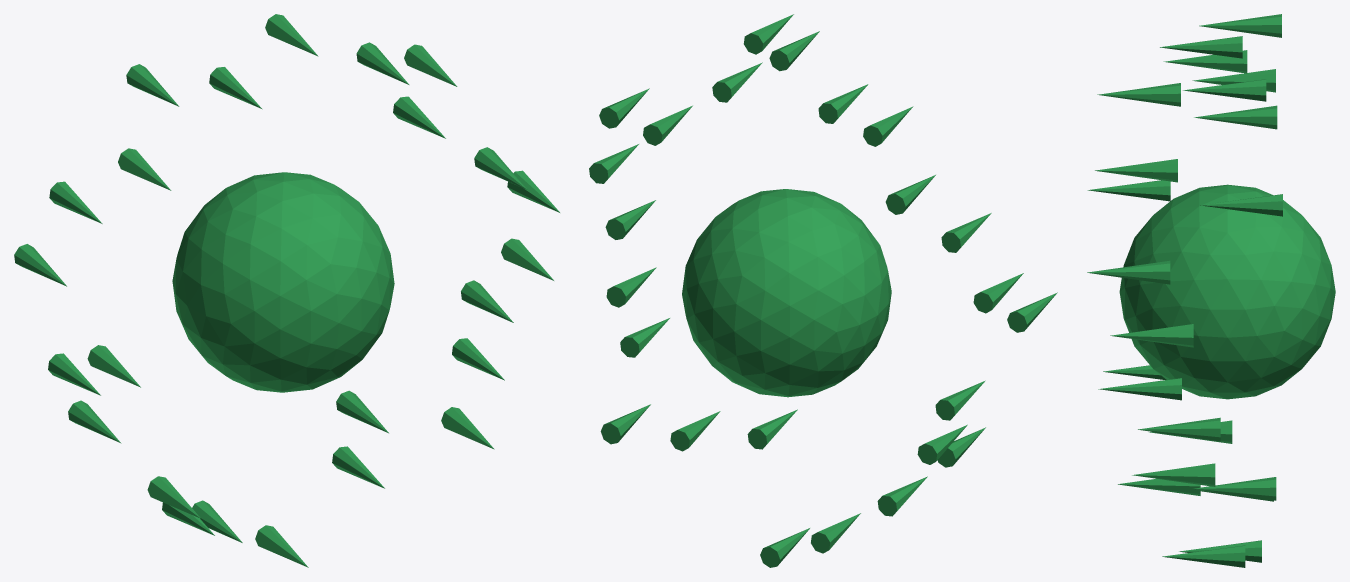
Rendered from nature_177.glb.
3 renders of one model, left to right at view 1: azimuth 30°, elevation 25°; view 2: azimuth 150°, elevation 25°; view 3: azimuth 270°, elevation 25°, orthographic. The views are drawn at different scales.
Visible parts, largest first — view 1: world; view 2: world; view 3: world.
Boxes of the visible parts, <box> form: world: <box>14,14,559,567</box>; world: <box>589,14,1057,567</box>; world: <box>1087,14,1335,567</box>.
Size of the model in its own units: 2.2 by 2.42 by 1.04.
